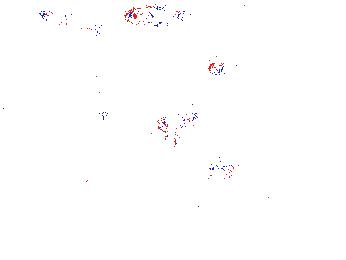X-ray fish: (309, 207, 323, 230)
red belly glassfish: (122, 5, 188, 28), (206, 159, 238, 183), (206, 60, 228, 77)
redtail glassfish: (37, 7, 103, 38), (156, 106, 191, 134), (89, 98, 119, 128)
